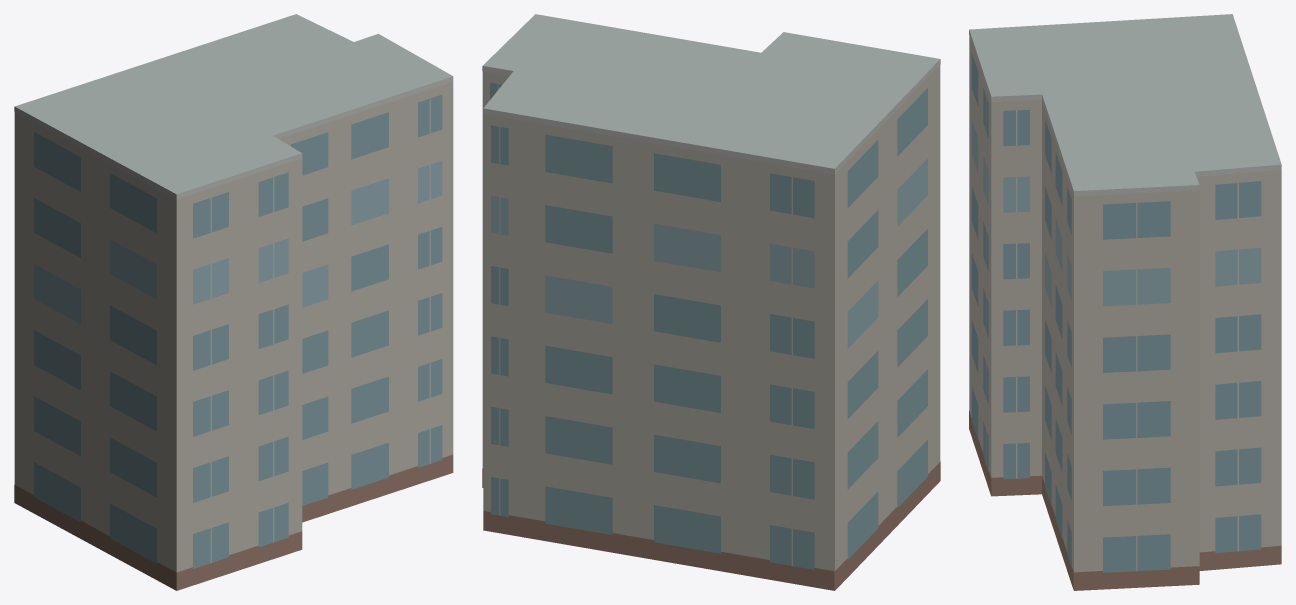
The model's file is survey-upis-32975735.glb.
3 renders of one model, left to right at view 1: azimuth 30°, elevation 25°; view 2: azimuth 150°, elevation 25°; view 3: azimuth 270°, elevation 25°, orthographic. The views are drawn at different scales.
Visible parts, largest first — view 1: survey-upis-32975735.tmp; view 2: survey-upis-32975735.tmp; view 3: survey-upis-32975735.tmp.
Boxes of the visible parts, box(x1,y1,x2,y2) form: survey-upis-32975735.tmp: box(14, 14, 453, 590); survey-upis-32975735.tmp: box(482, 14, 940, 590); survey-upis-32975735.tmp: box(969, 14, 1281, 590).
Size of the model in its own units: 17.4 by 18.3 by 12.97.
